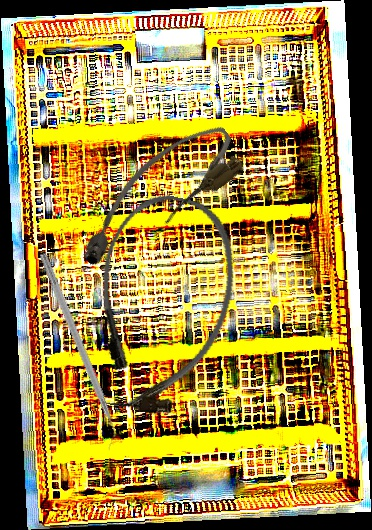Cannula: (71, 184, 252, 426), (61, 113, 251, 277)
Chopper: (28, 251, 125, 452)
